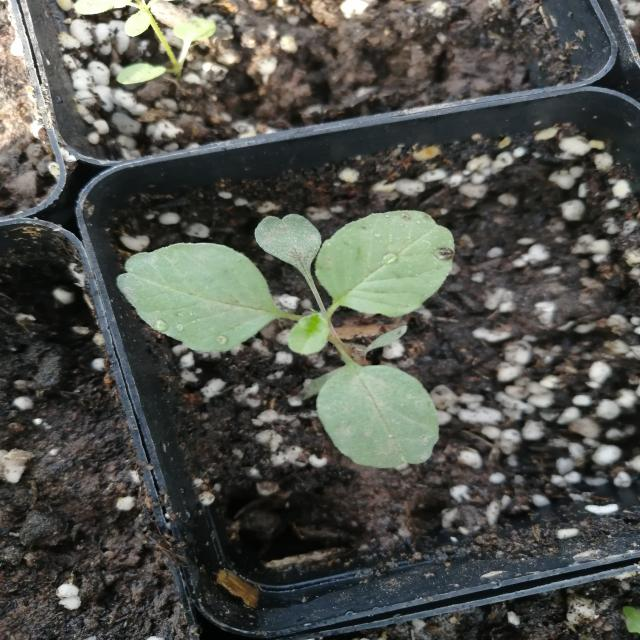pigweed: (112, 195, 457, 460)
